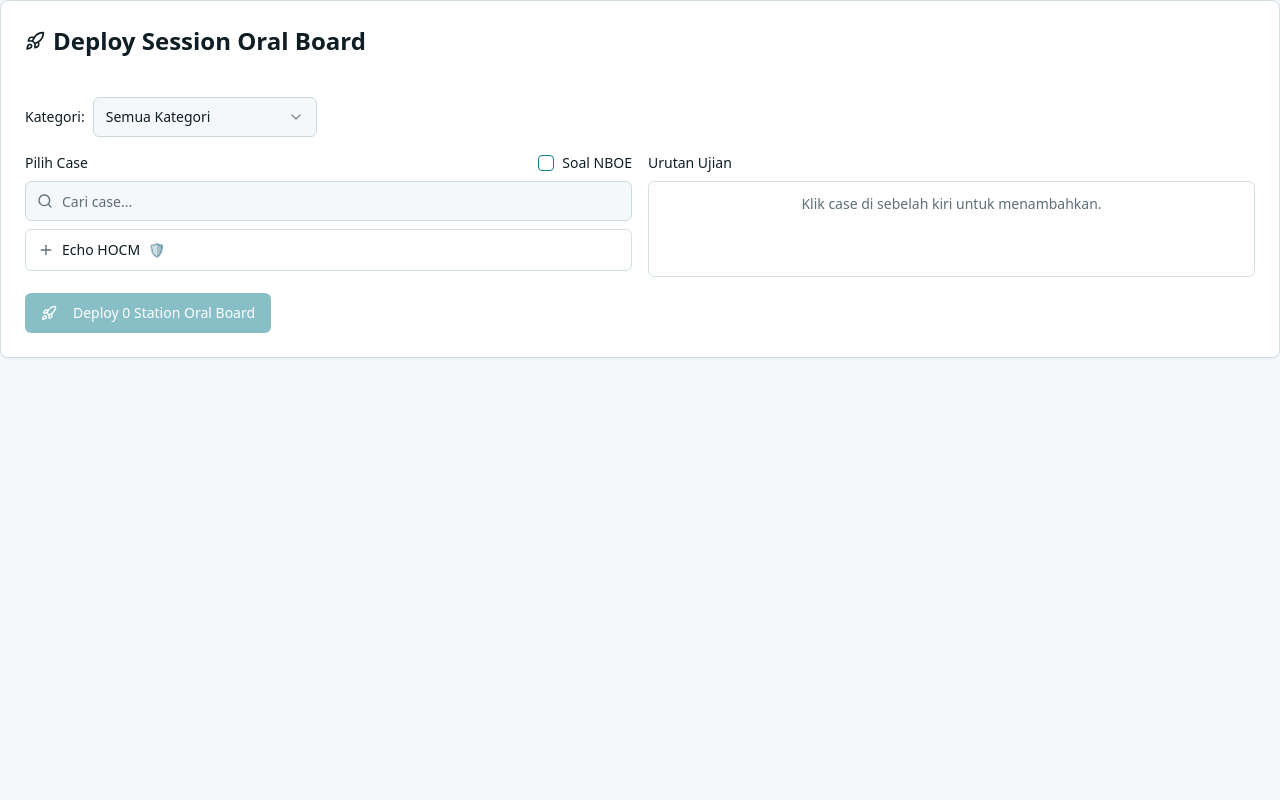
Test case: deployment summary picker › isolates cache, loads only published mode summaries and keeps selections usable
Click the button "Echo HOCM🛡️". click: (101, 250)
box: top-left (26, 230), bottom-right (631, 270)
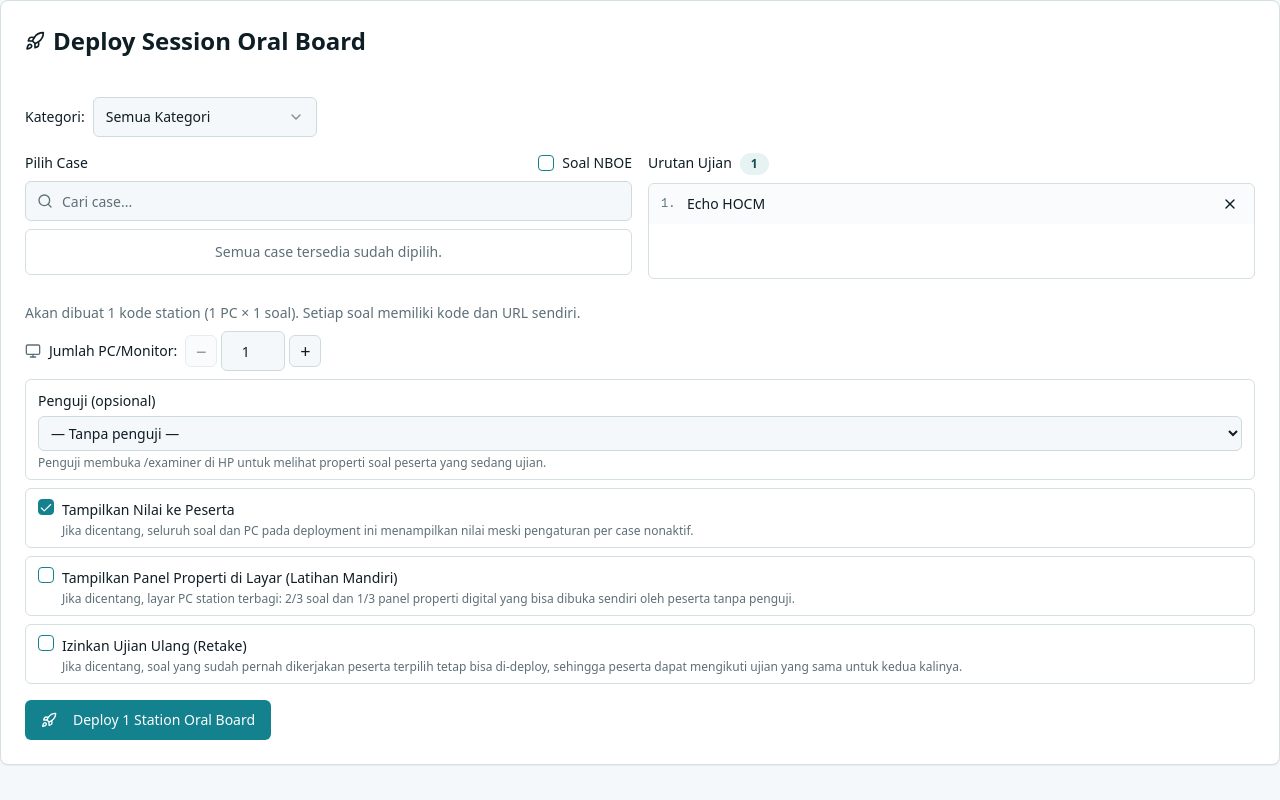
Expected: the button "Deploy 1 Station Oral Board" is enabled, top-left (25, 700), bottom-right (271, 740)
